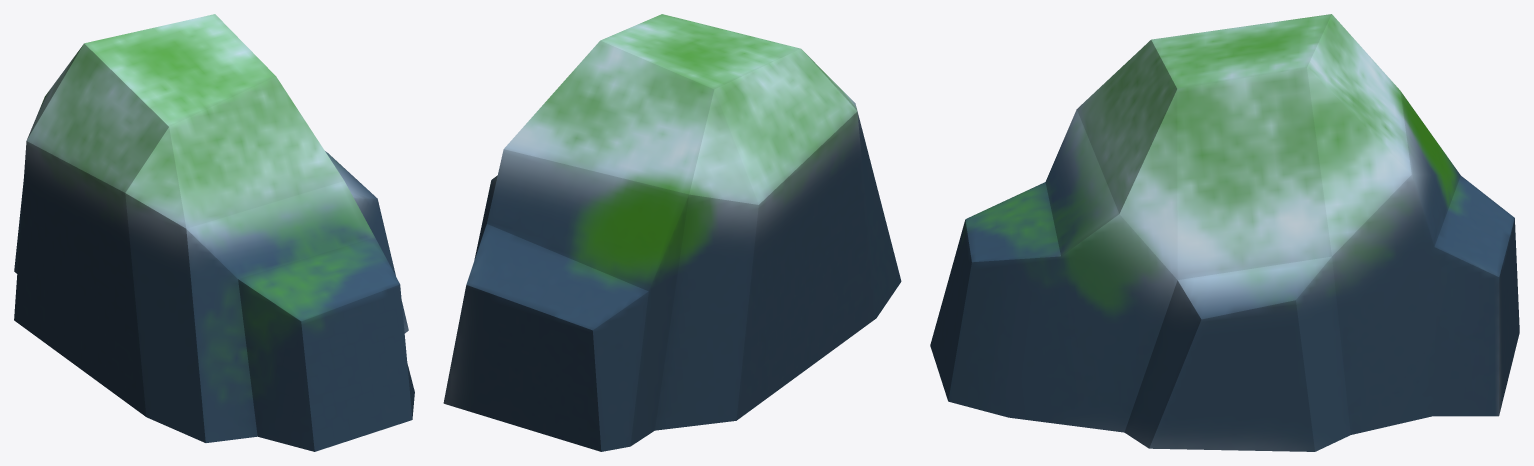
File: Rock_Moss_4.fbx
3 views of the same model, side by side, from view 1: azimuth 30°, elevation 25°; view 2: azimuth 150°, elevation 25°; view 3: azimuth 270°, elevation 25° (orthographic). The views are drawn at different scales.
Visible parts, largest first — view 1: Rock_Moss_4; view 2: Rock_Moss_4; view 3: Rock_Moss_4.
Boxes of the visible parts, x1,y1,x2,y2 form: Rock_Moss_4: (14,14,414,451); Rock_Moss_4: (443,14,901,451); Rock_Moss_4: (930,14,1519,451).
Size of the model in its own units: 0.7436 by 0.7015 by 1.18.
